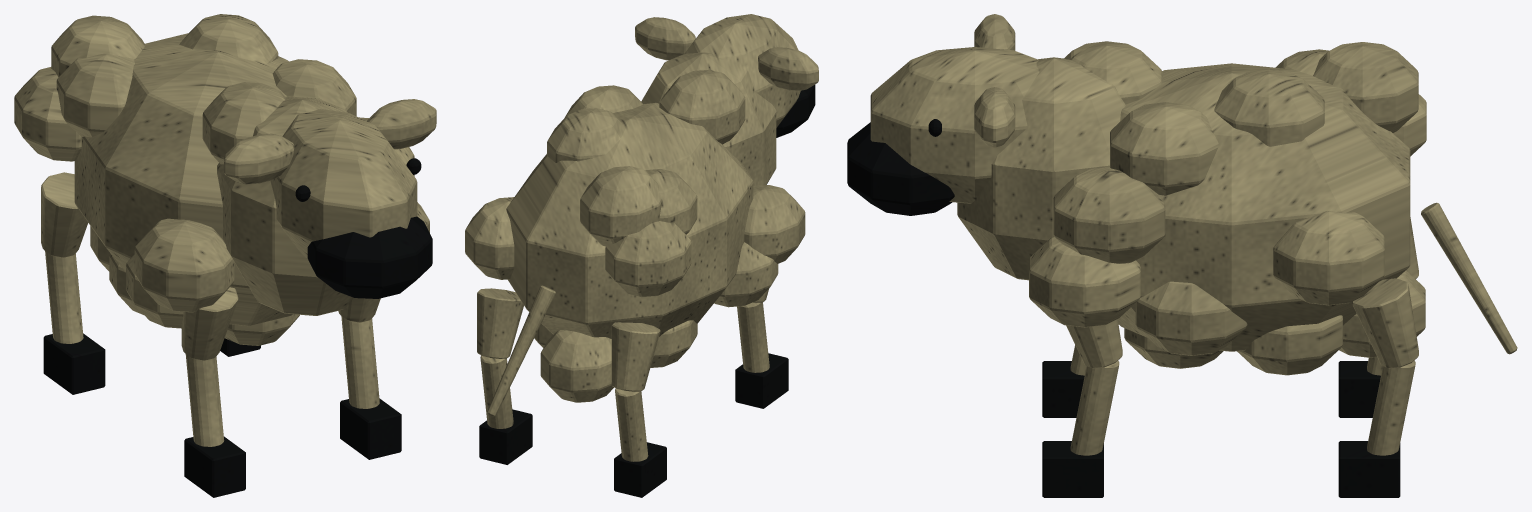
The model's file is PROP-56B018EAFACF_lod1.glb.
3 renders of one model, left to right at view 1: azimuth 30°, elevation 25°; view 2: azimuth 150°, elevation 25°; view 3: azimuth 270°, elevation 25°, orthographic. The views are drawn at different scales.
Parts seen in each view (by area): view 1: wool_tufts.002, animal_torso.005, animal_head.005, animal_neck.005, hoof.005, lower_leg.005, muzzle.005, upper_leg.005, animal_ears.005; view 2: wool_tufts.002, animal_torso.005, hoof.005, upper_leg.005, animal_neck.005, lower_leg.005, animal_head.005, animal_ears.005, tail.005, muzzle.005; view 3: wool_tufts.002, animal_torso.005, animal_neck.005, animal_head.005, hoof.005, upper_leg.005, lower_leg.005, muzzle.005, animal_ears.005, tail.005.
Boxes of the visible parts, left/top/right/bottom form: wool_tufts.002: left=14, top=14, right=429, bottom=345; animal_torso.005: left=74, top=33, right=292, bottom=326; animal_head.005: left=270, top=109, right=417, bottom=258; animal_neck.005: left=217, top=96, right=353, bottom=315; hoof.005: left=43, top=333, right=401, bottom=497; lower_leg.005: left=45, top=251, right=379, bottom=446; muzzle.005: left=307, top=216, right=432, bottom=298; upper_leg.005: left=41, top=172, right=380, bottom=360; animal_ears.005: left=224, top=99, right=436, bottom=184; wool_tufts.002: left=465, top=69, right=805, bottom=402; animal_torso.005: left=506, top=102, right=753, bottom=338; hoof.005: left=479, top=353, right=788, bottom=497; upper_leg.005: left=477, top=288, right=769, bottom=391; animal_neck.005: left=641, top=52, right=776, bottom=185; lower_leg.005: left=480, top=302, right=769, bottom=461; animal_head.005: left=684, top=14, right=800, bottom=127; animal_ears.005: left=635, top=17, right=818, bottom=90; tail.005: left=487, top=285, right=555, bottom=416; muzzle.005: left=776, top=85, right=815, bottom=137; wool_tufts.002: left=1029, top=41, right=1426, bottom=375; animal_torso.005: left=1117, top=63, right=1410, bottom=351; animal_neck.005: left=957, top=57, right=1125, bottom=280; animal_head.005: left=870, top=47, right=1039, bottom=203; hoof.005: left=1042, top=361, right=1400, bottom=497; upper_leg.005: left=1066, top=217, right=1418, bottom=368; lower_leg.005: left=1070, top=345, right=1415, bottom=455; muzzle.005: left=847, top=122, right=954, bottom=215; animal_ears.005: left=974, top=14, right=1015, bottom=147; tail.005: left=1421, top=202, right=1517, bottom=354.
Size of the model in its own units: 0.8008 by 1.07 by 1.63.
Materials: 2 (2 with a texture image).
